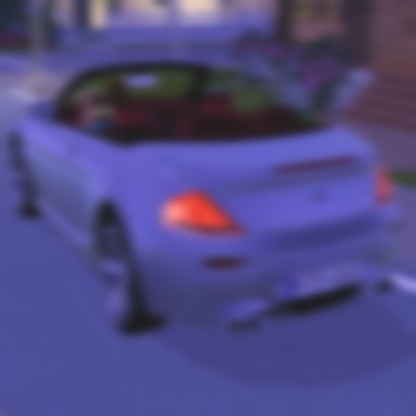Vehicle: (9, 60, 403, 340)
